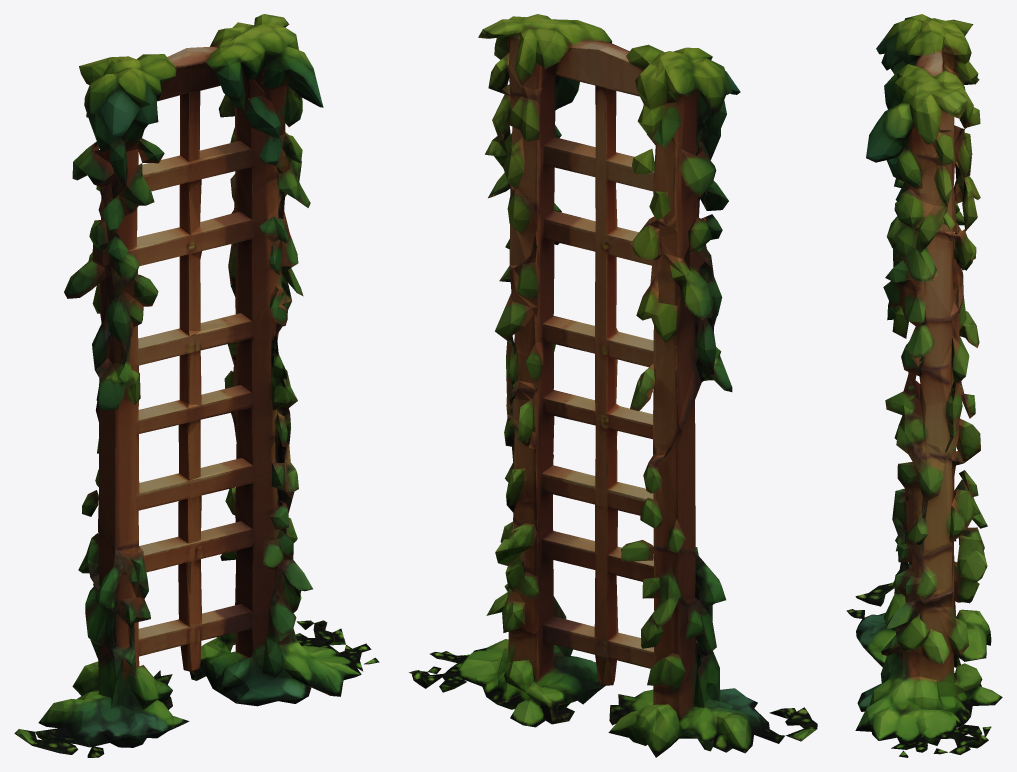
The picture shows the model from 3 angles, left to right: view 1: azimuth 30°, elevation 25°; view 2: azimuth 150°, elevation 25°; view 3: azimuth 270°, elevation 25°; orthographic projection. The views are drawn at different scales.
Parts seen in each view (by area): view 1: world; view 2: world; view 3: world.
Boxes of the visible parts, box(x1,y1,x2,y2) form: world: box(14, 14, 379, 757); world: box(409, 14, 817, 757); world: box(846, 14, 1002, 757).
Size of the model in its own units: 0.5676 by 1 by 0.2249.
1 material, 1 textured.
